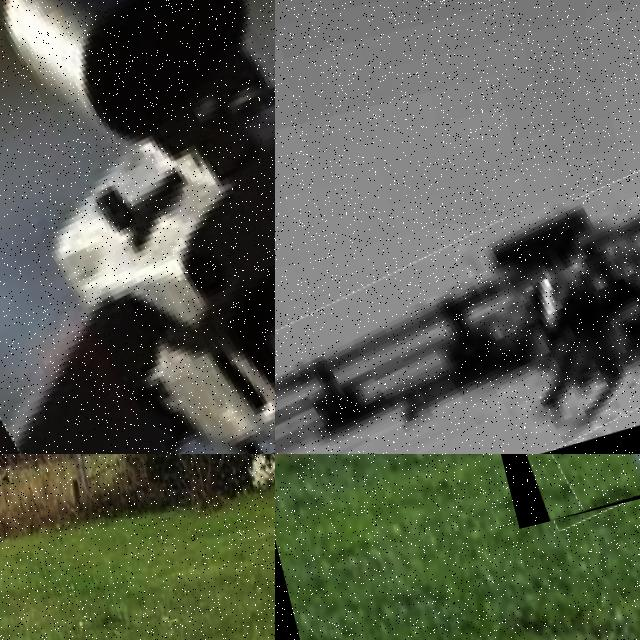drone: (0, 0, 275, 454), (275, 161, 640, 454), (445, 454, 640, 528)
